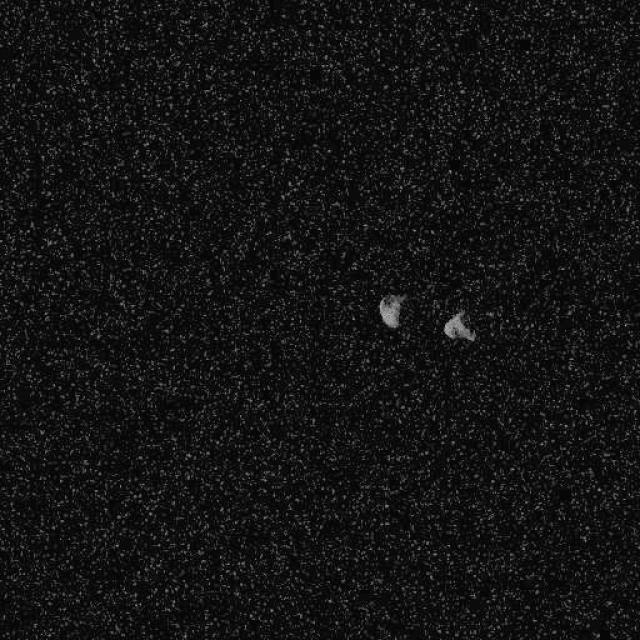D2: (442, 308, 476, 342), (377, 291, 405, 329)
